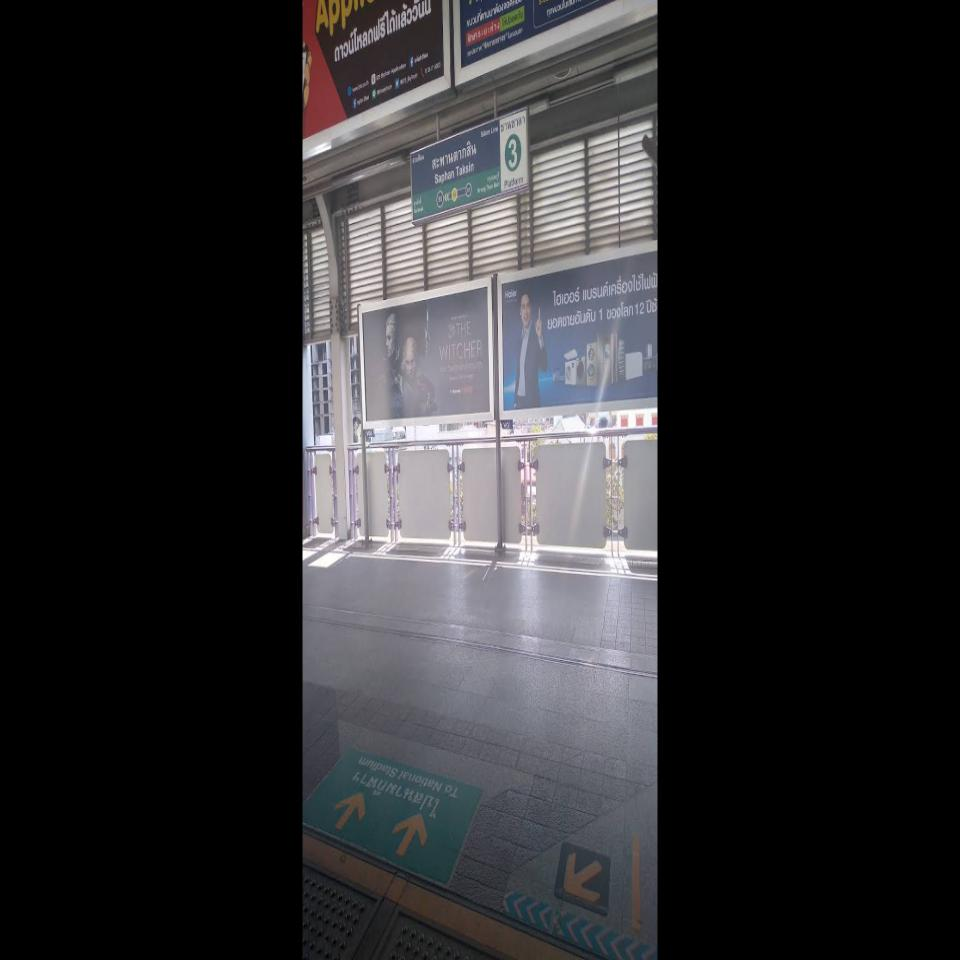signage: (432, 125, 478, 218)
